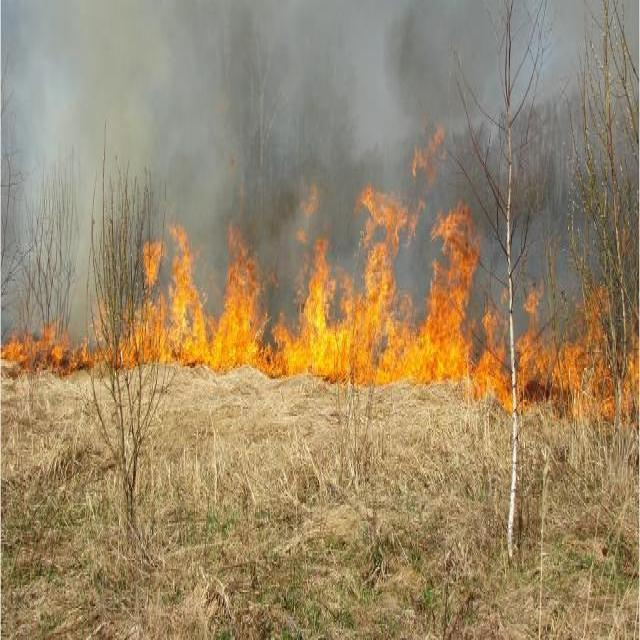Fire: (404, 307, 466, 380), (306, 326, 376, 384), (169, 274, 208, 356), (218, 300, 258, 362)
Smoke: (292, 13, 390, 131), (118, 12, 194, 100), (42, 7, 78, 104)
